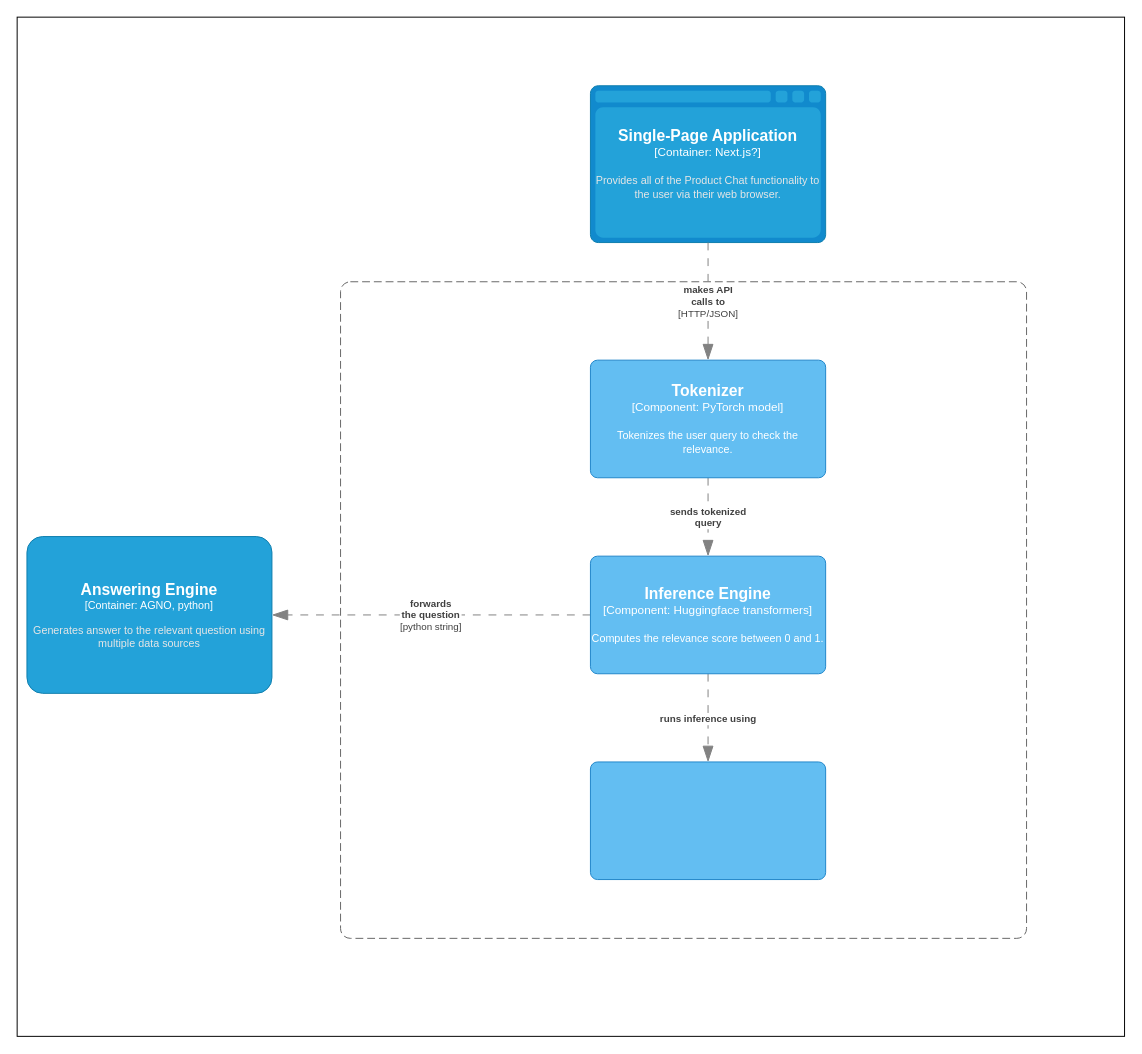
This 1142x1054 diagram has some shape labels left out. The shapes that lost their labels are listed below. From the top down, each one's box as (x1, y1, x2, y2) in pixels, then its label:
(340, 281, 1027, 938): Relevance Checker [Container]
(589, 761, 826, 880): Finetuned Model [Component: ModernBERT] Trained to model the query relevance
